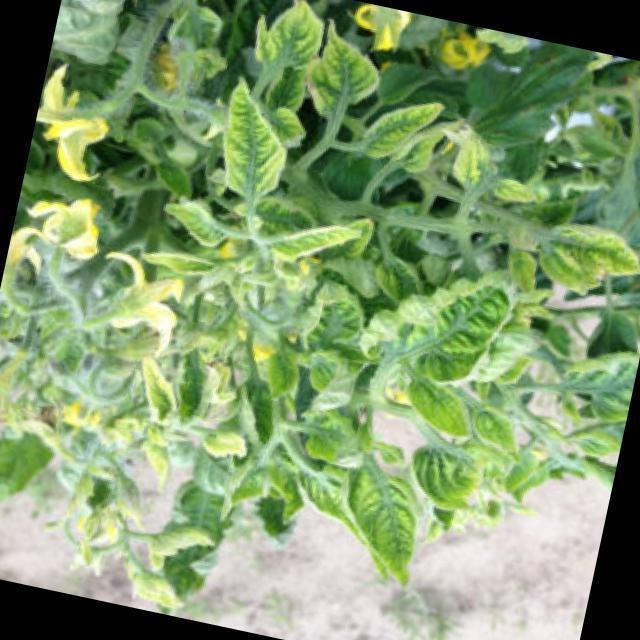Yellow Curl Virus: (359, 251, 520, 396), (332, 467, 434, 588), (521, 210, 640, 309), (262, 194, 383, 288), (208, 84, 298, 204), (301, 15, 389, 126), (360, 91, 449, 171), (243, 0, 326, 73), (147, 186, 234, 254)
